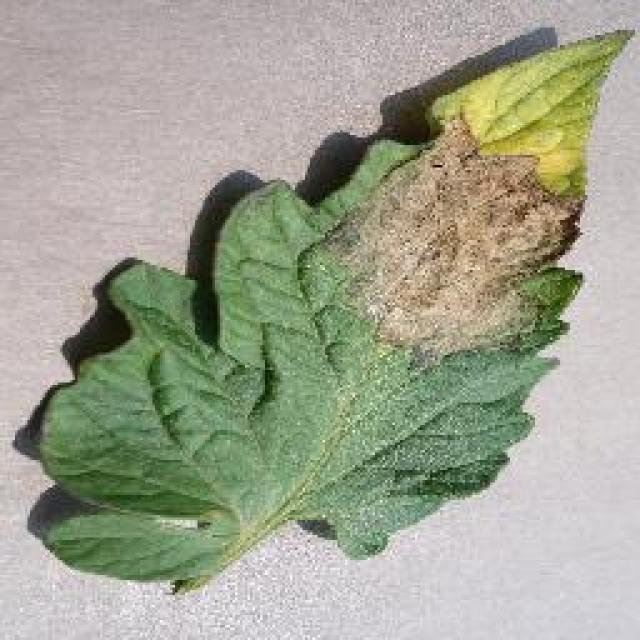Tomato Late Blight: (370, 128, 587, 365)
